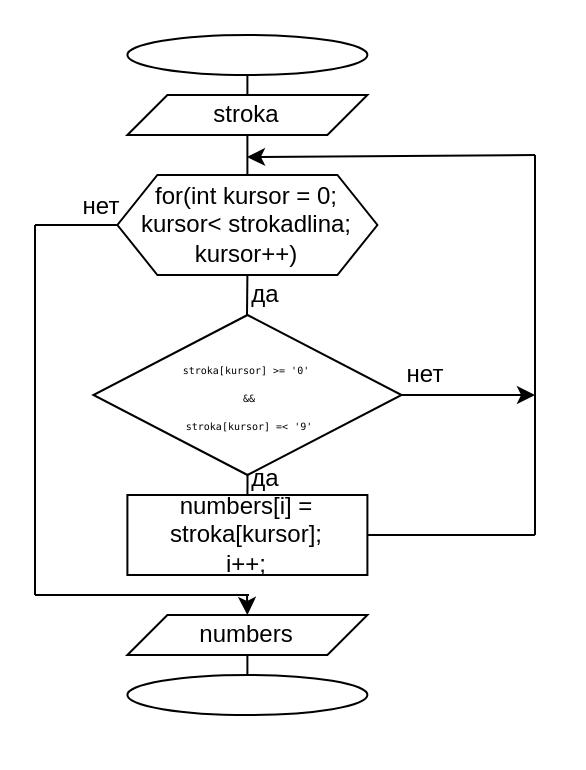
The diagram is 586 pixels wide and 770 high, and some of its shapes have lost their labels. Here are the shapes that lost their labels. From the top down, the centre of each, then its label:
(x=246, y=54): Начало
(x=246, y=694): Конец
